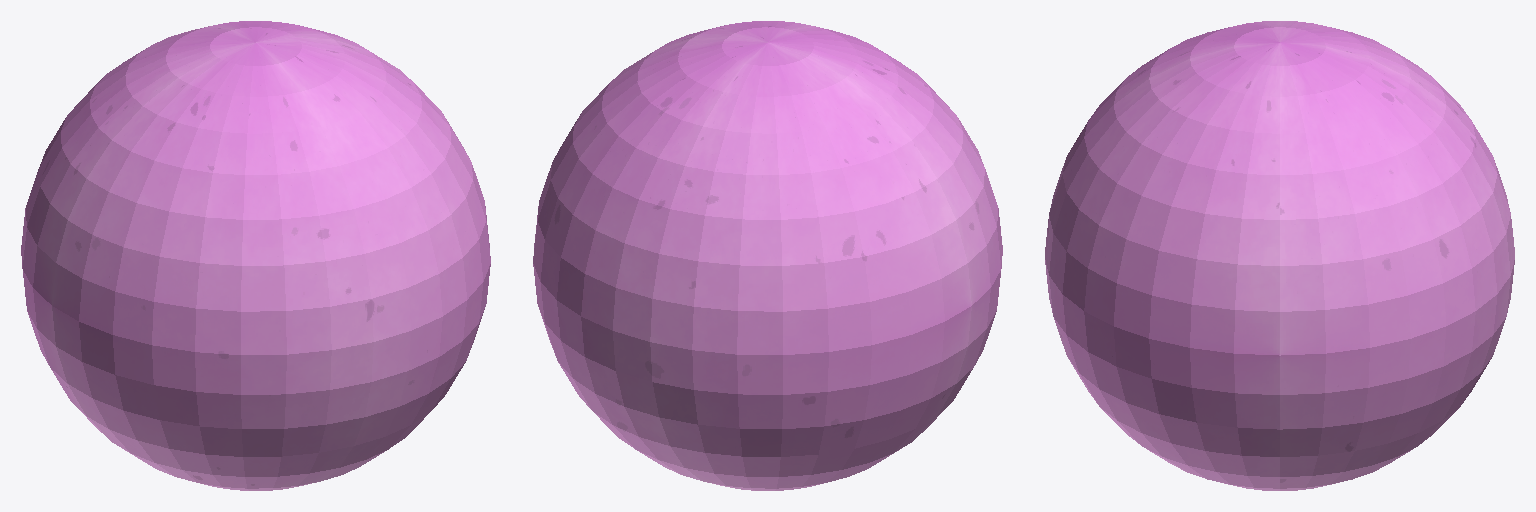
The picture shows the model from 3 angles: view 1: azimuth 30°, elevation 25°; view 2: azimuth 150°, elevation 25°; view 3: azimuth 270°, elevation 25°; orthographic projection.
Parts seen in each view (by area): view 1: sphere; view 2: sphere; view 3: sphere.
Boxes of the visible parts, x1,y1,x2,y2 form: sphere: [21, 21, 490, 490]; sphere: [533, 21, 1002, 490]; sphere: [1045, 21, 1514, 490].
Bounding box in the file's own units: 100 × 100 × 100.
1 materials, 1 textured.